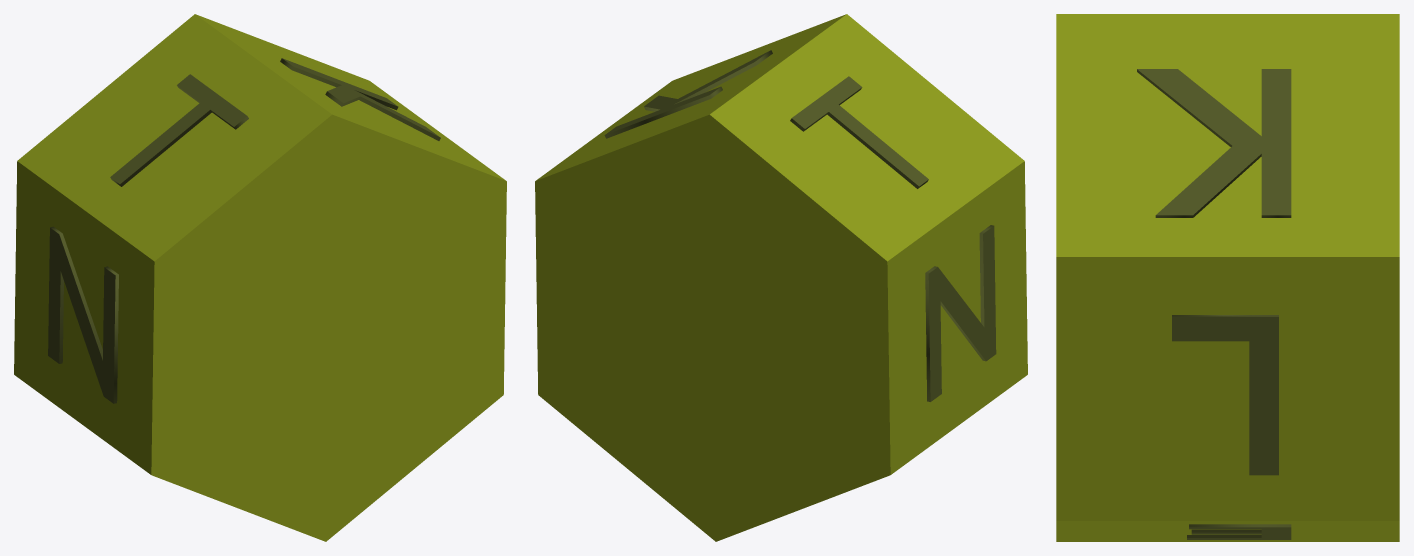
The model's file is CodigoLetraAmarillo.fbx.
3 views of the same model, side by side, from view 1: azimuth 30°, elevation 25°; view 2: azimuth 150°, elevation 25°; view 3: azimuth 270°, elevation 25° (orthographic). The views are drawn at different scales.
Parts seen in each view (by area): view 1: Cylinder.041; view 2: Cylinder.041; view 3: Cylinder.041.
Boxes of the visible parts, x1=… form: Cylinder.041: x1=14, y1=14, x2=506, y2=541; Cylinder.041: x1=535, y1=14, x2=1027, y2=541; Cylinder.041: x1=1056, y1=14, x2=1399, y2=541.
Bounding box in the file's own units: 11.15 × 12.58 × 7.36.
